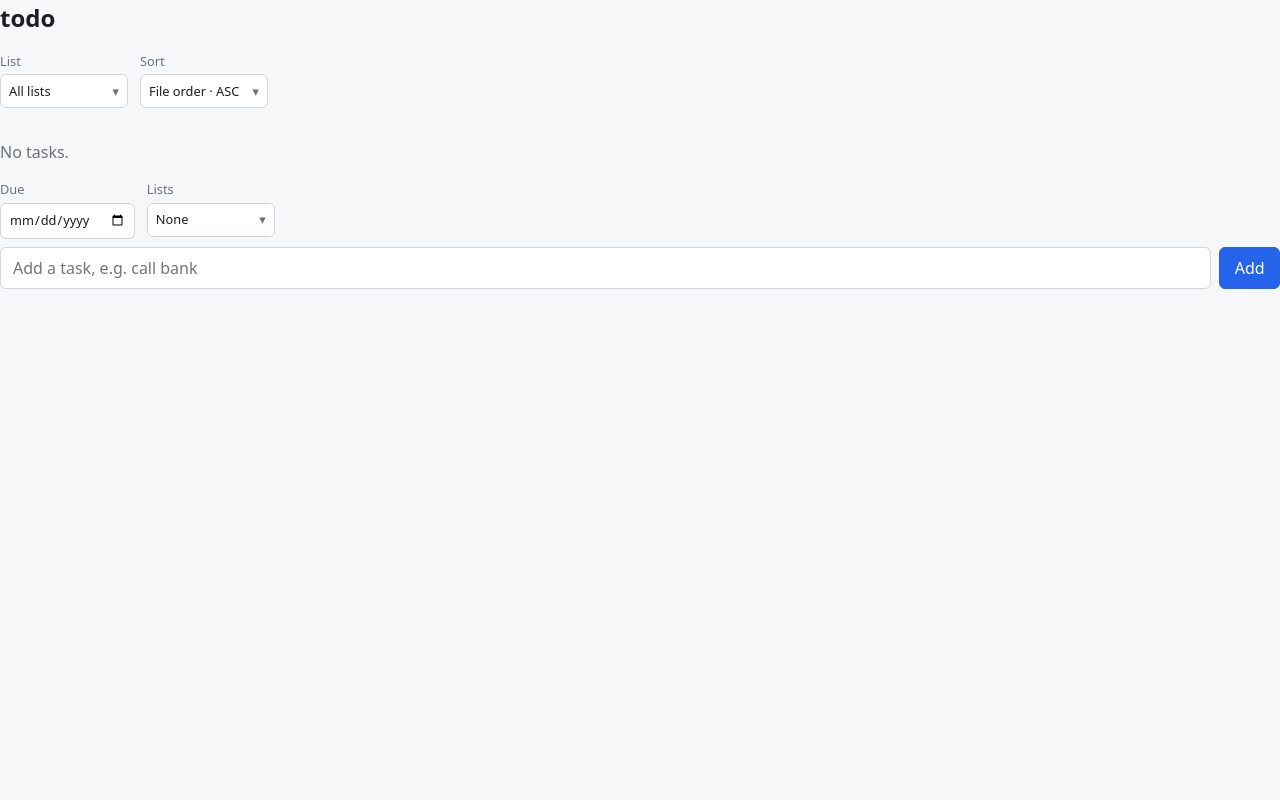
Test case: TodoPane remembered labels › keeps the last task's list selected and in the picker after deletion
The image size is (1280, 800).
Click the button with aria-label "list filter": (64, 91) [0,74,128,108]
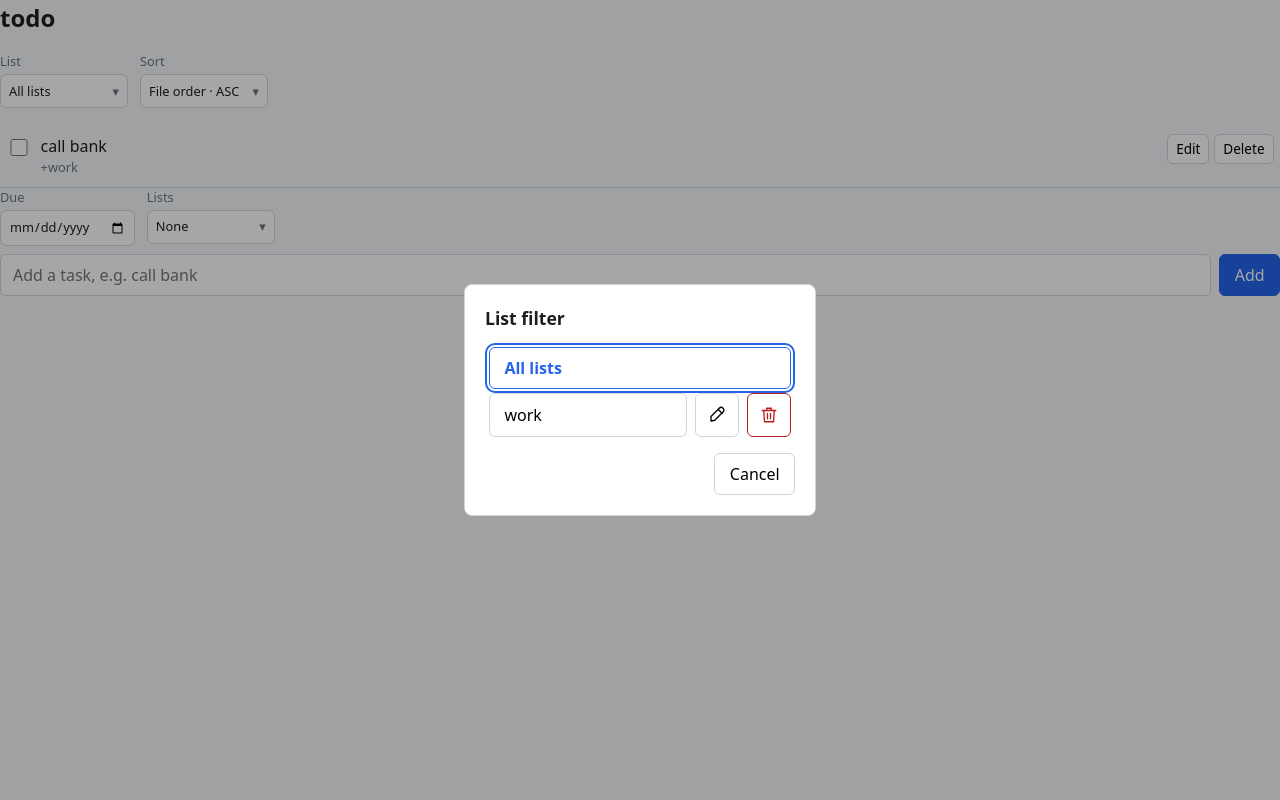
Click the button "work": (588, 415) [489,393,687,437]
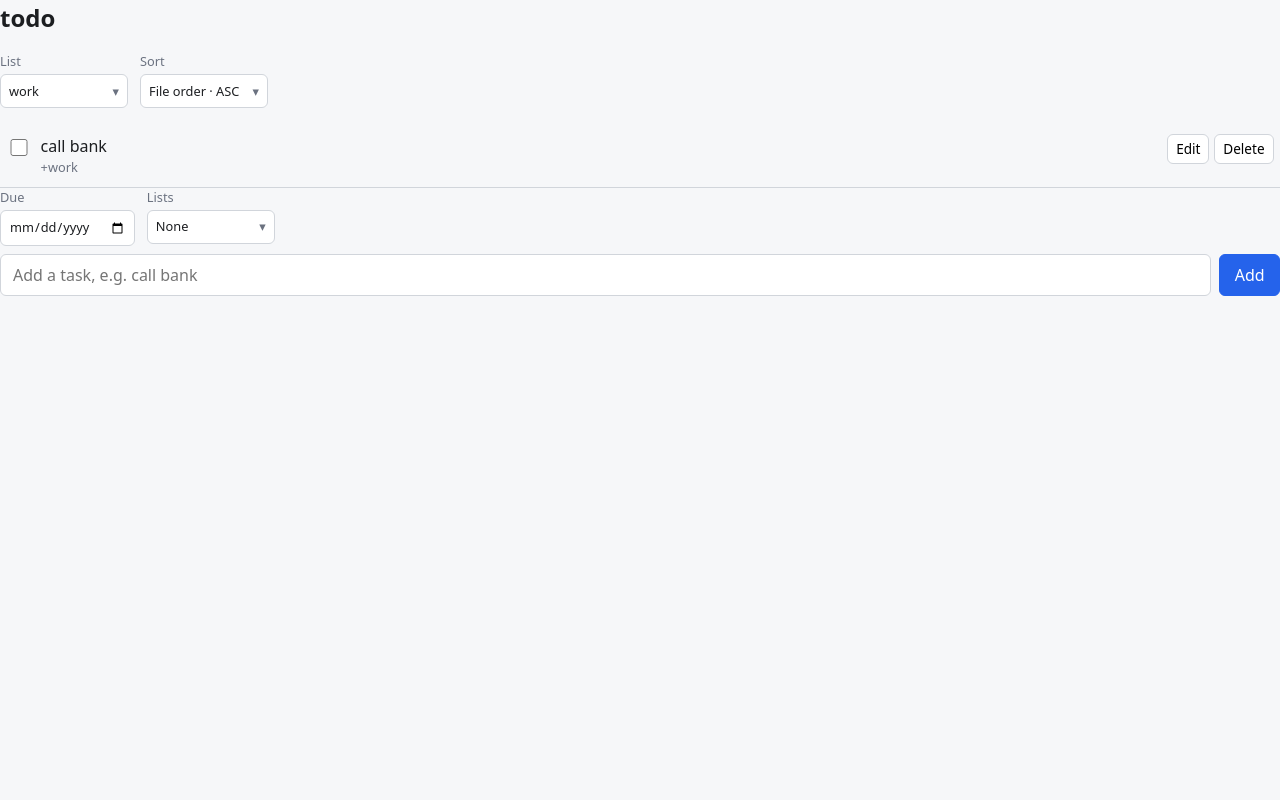
Click the button "Delete": (1244, 149) [1214,134,1274,164]
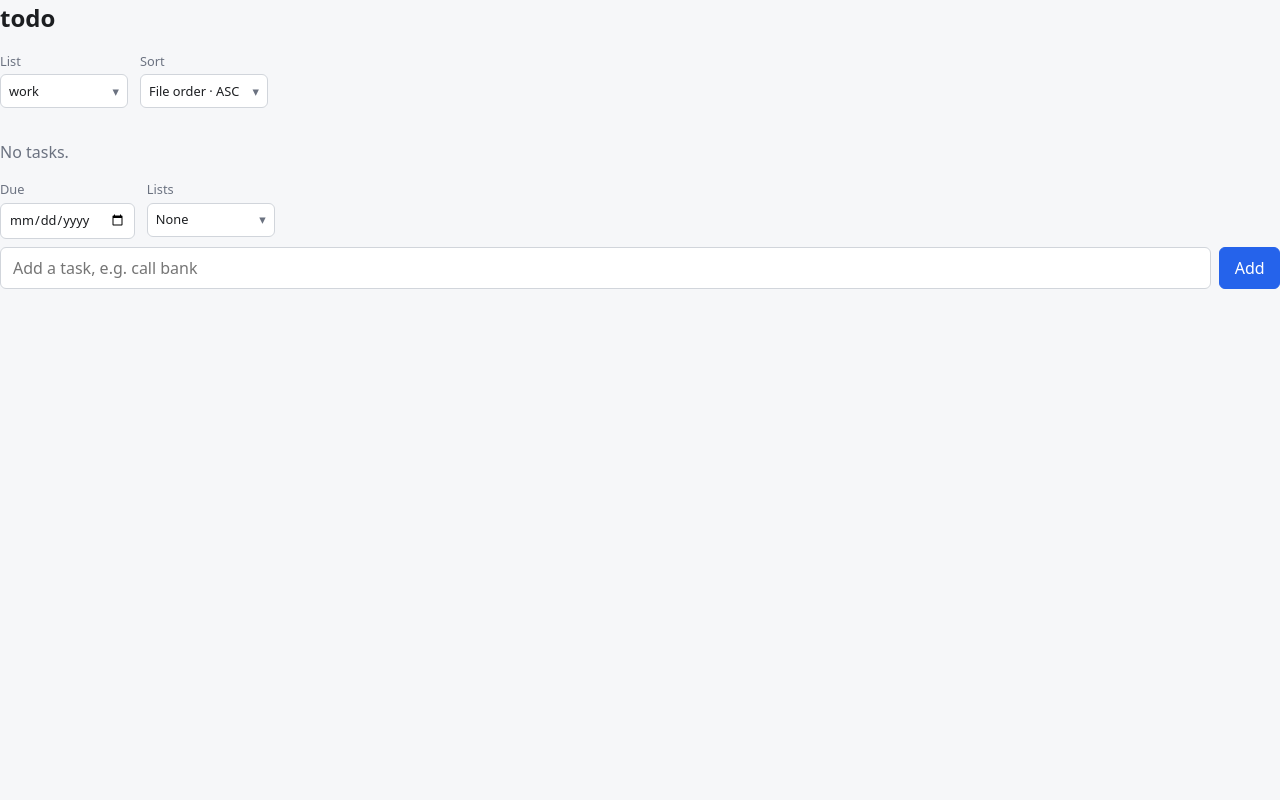
Expected: the button with aria-label "list filter" reads "work"
Click the button with aria-label "list filter": (64, 91) [0,74,128,108]
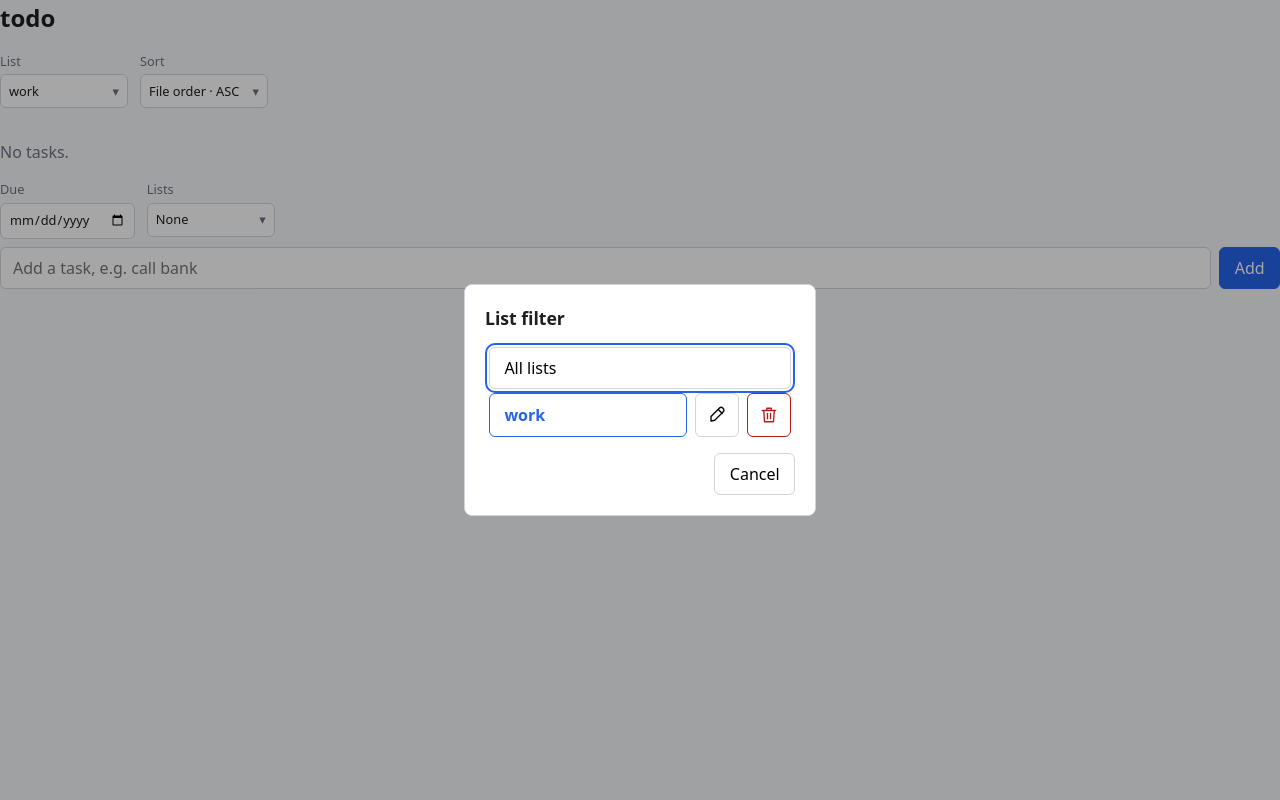
Expected: the button "work" below "List filter" is shown, [489,393,687,437]
